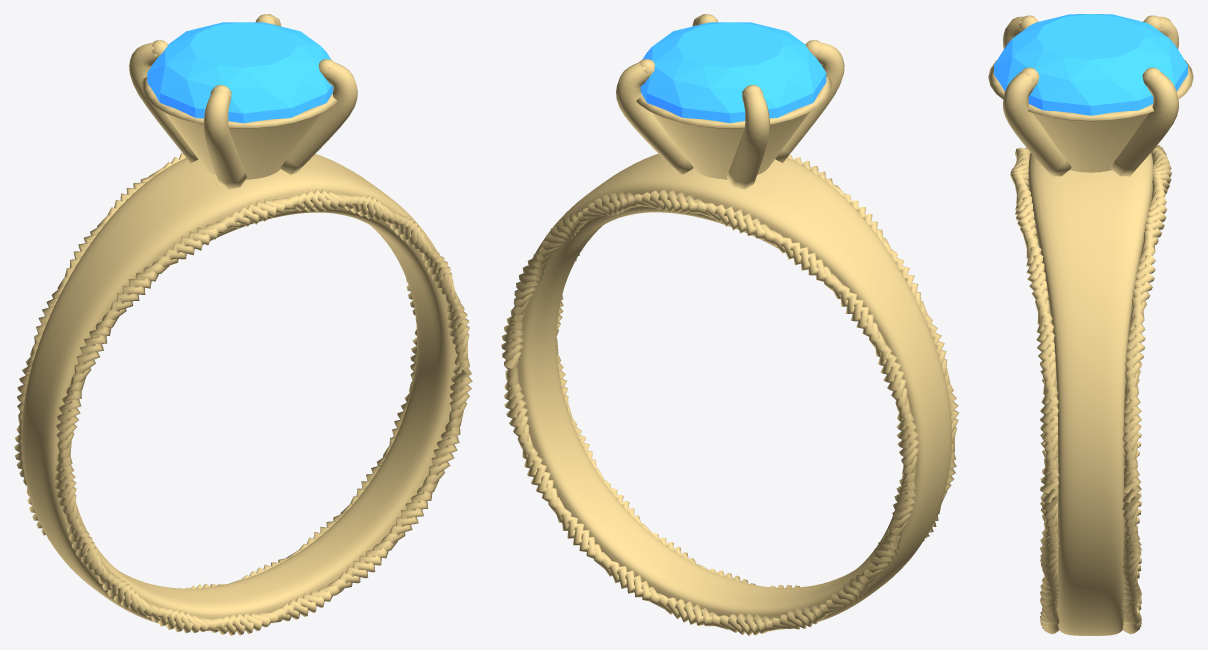
File: jewel_ring_rare.glb
3 renders of one model, left to right at view 1: azimuth 30°, elevation 25°; view 2: azimuth 150°, elevation 25°; view 3: azimuth 270°, elevation 25°, orthographic.
Visible parts, largest first — view 1: jewel_ring_rare; view 2: jewel_ring_rare; view 3: jewel_ring_rare.
Boxes of the visible parts, x1,y1,x2,y2 form: jewel_ring_rare: (14, 14, 472, 635); jewel_ring_rare: (501, 14, 958, 635); jewel_ring_rare: (988, 14, 1193, 635).
Bounding box in the file's own units: 2.27 × 2.95 × 0.954.
